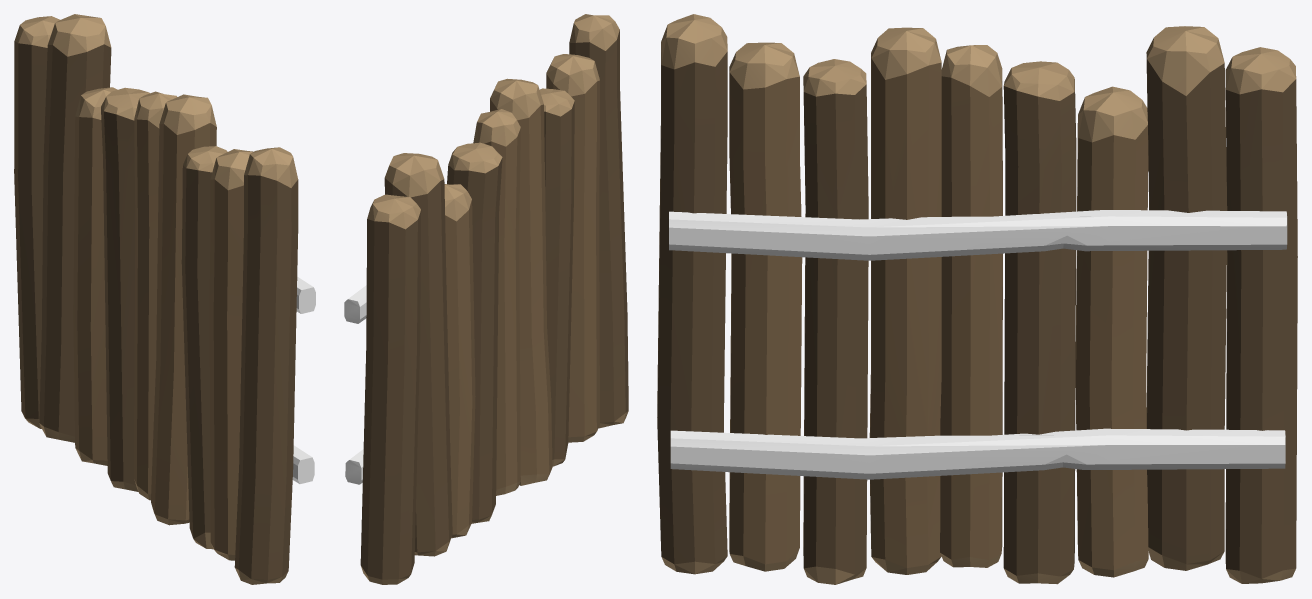
Rendered from Espiga_Unida_01.glb.
The picture shows the model from 3 angles, left to right: view 1: azimuth 30°, elevation 25°; view 2: azimuth 150°, elevation 25°; view 3: azimuth 270°, elevation 25°; orthographic projection. The views are drawn at different scales.
Visible parts, largest first — view 1: SM_Prop_Fence_Wood_Large_01_1; view 2: SM_Prop_Fence_Wood_Large_01_1; view 3: SM_Prop_Fence_Wood_Large_01_1.
Boxes of the visible parts, x1=… form: SM_Prop_Fence_Wood_Large_01_1: x1=14, y1=14, x2=315, y2=584; SM_Prop_Fence_Wood_Large_01_1: x1=344, y1=14, x2=628, y2=584; SM_Prop_Fence_Wood_Large_01_1: x1=657, y1=14, x2=1297, y2=584.
Size of the model in its own units: 0.6275 by 3.61 by 3.75.
Materials: 1 (1 with a texture image).
